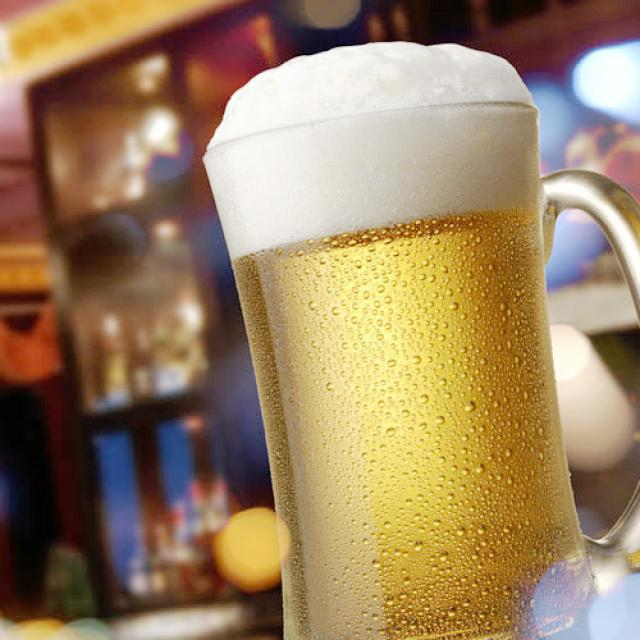drink: (200, 37, 636, 639)
